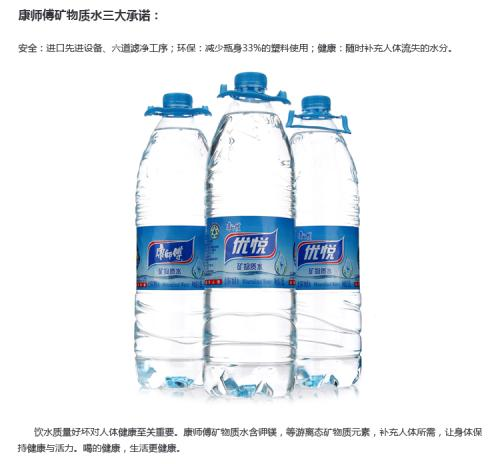amwater: (122, 74, 380, 407)
